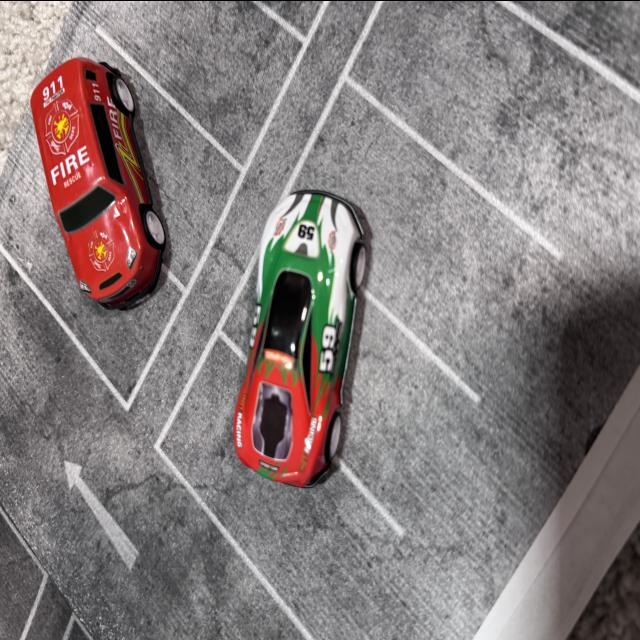Car: (228, 112, 468, 502), (38, 63, 129, 334)
